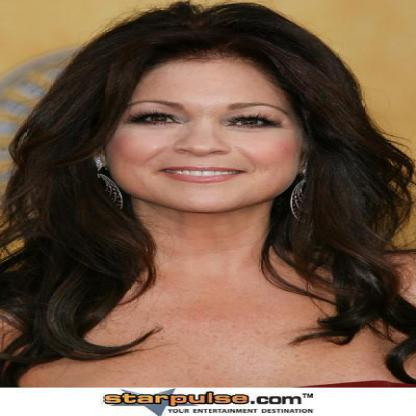long-hair: (2, 212, 408, 270)
